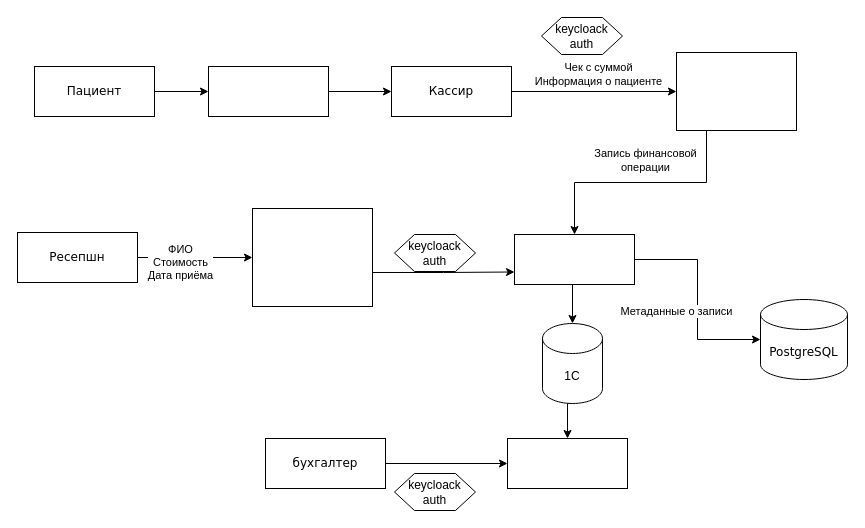
This 865x528 diagram has some shape labels left out. The centre of each missing label's shape, as x and y in pixels:
"Запись проведённой финансовой операции" belongs at pixel 736 91.
"Корпоративный портал" belongs at pixel 574 259.
"Обработка платежей" belongs at pixel 567 463.
"Оплата приёма / анализов" belongs at pixel 268 91.
"Передача данных о приёме / выполненных анализах и их стоимости" belongs at pixel 312 257.
